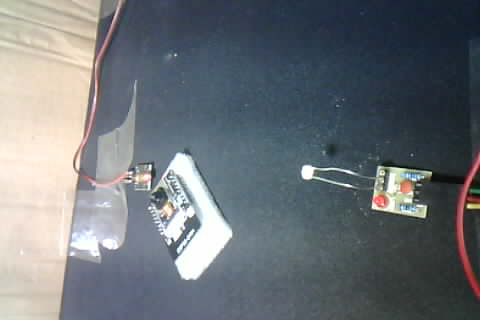esp32: (143, 155, 220, 274)
